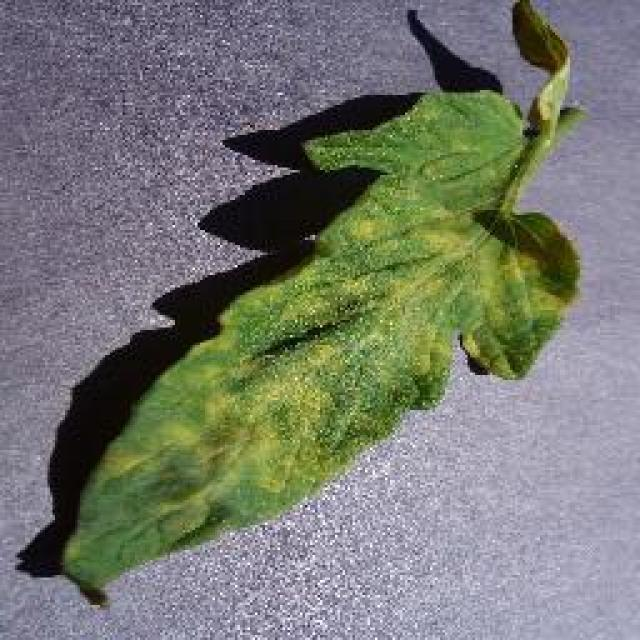Tomato___Leaf_Mold: (65, 0, 578, 585)
